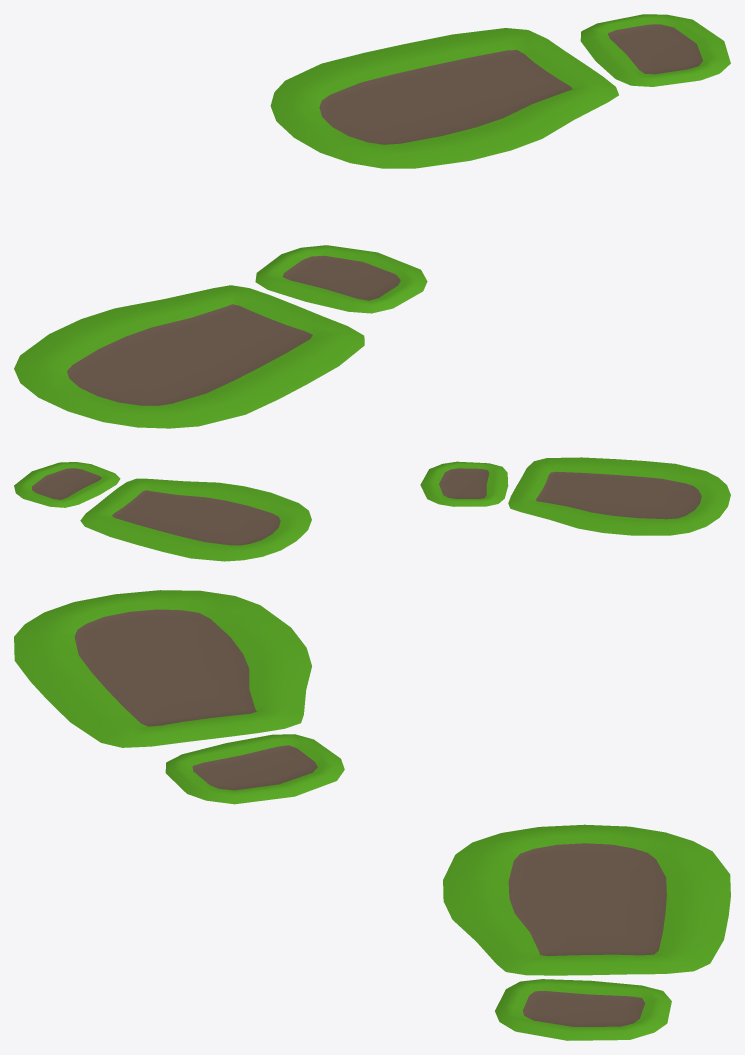
File: Isl_2_Tracks_1.fbx
3 renders of one model, top to bottom at view 1: azimuth 30°, elevation 25°; view 2: azimuth 150°, elevation 25°; view 3: azimuth 270°, elevation 25°, orthographic. The views are drawn at different scales.
Visible parts, largest first — view 1: Isl_2_Tracks_1; view 2: Isl_2_Tracks_1; view 3: Isl_2_Tracks_1.
Boxes of the visible parts, x1=… form: Isl_2_Tracks_1: x1=14, y1=14, x2=730, y2=428; Isl_2_Tracks_1: x1=14, y1=457, x2=730, y2=561; Isl_2_Tracks_1: x1=14, y1=590, x2=730, y2=1040.
Bounding box in the file's own units: 1360 × 914 × 5.86.
1 material, 1 textured.
